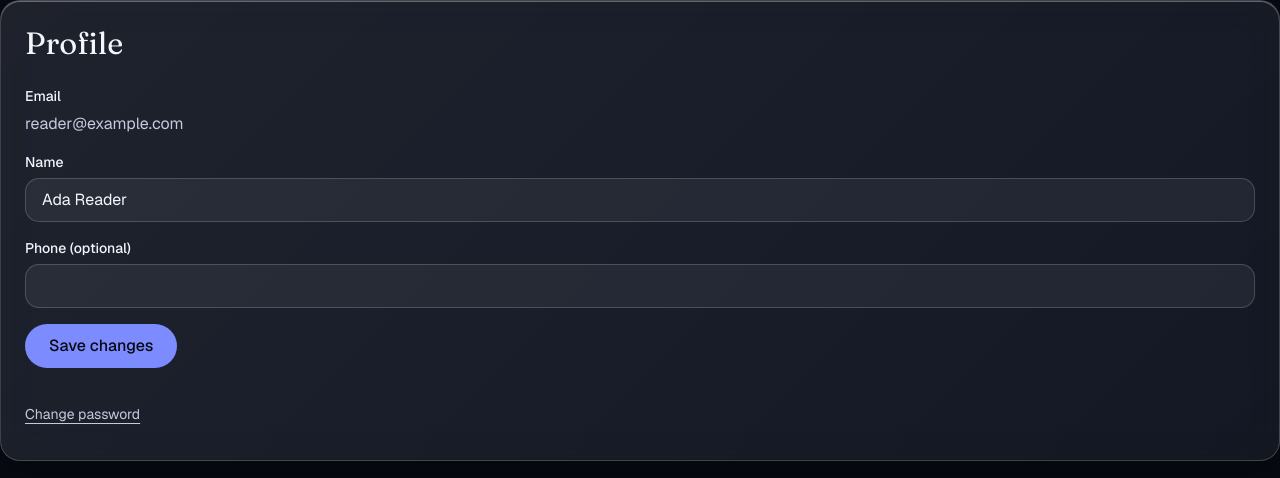
Scenario: ProfileForm › loads the profile and saves changes
Replace the text in the field labelled "Name" with "Ada Lovelace": x=640, y=200 [25,178,1255,222]
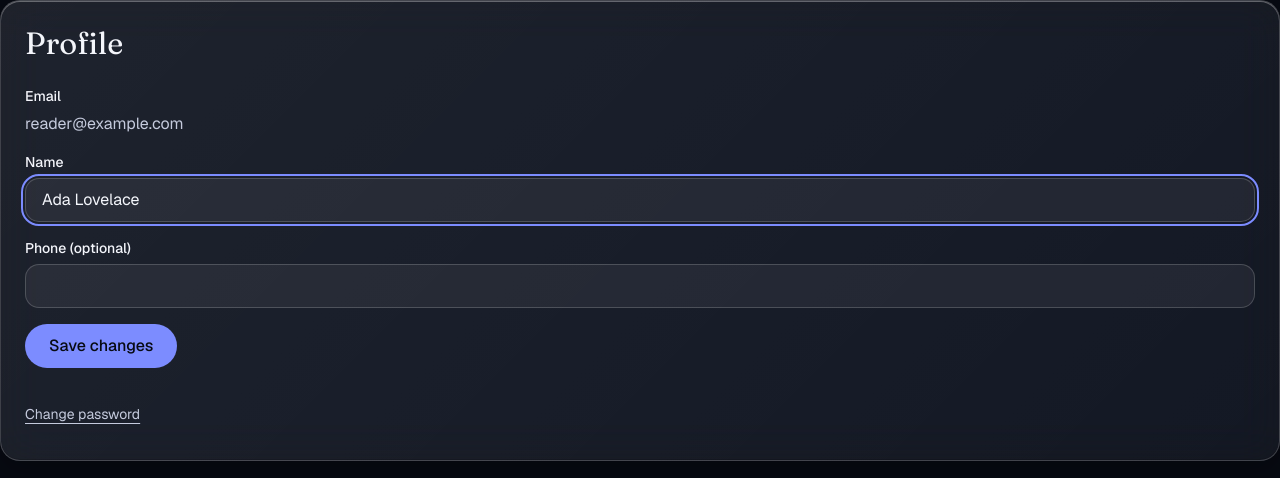
Click the button "Save changes": x=101, y=346 [25,324,177,368]
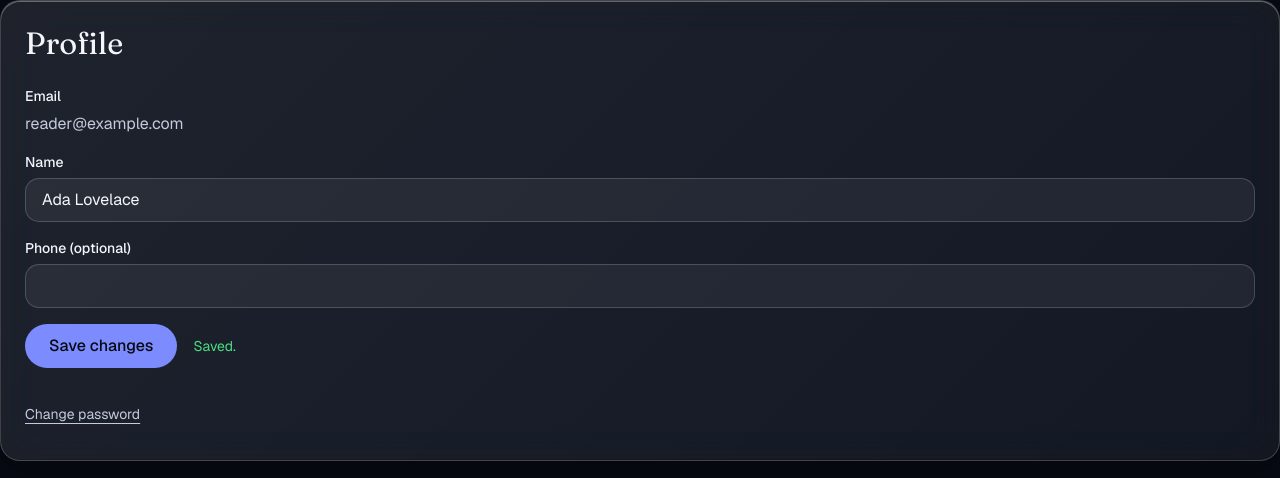
Expected: the text "Saved." is shown, [193,336,236,356]
